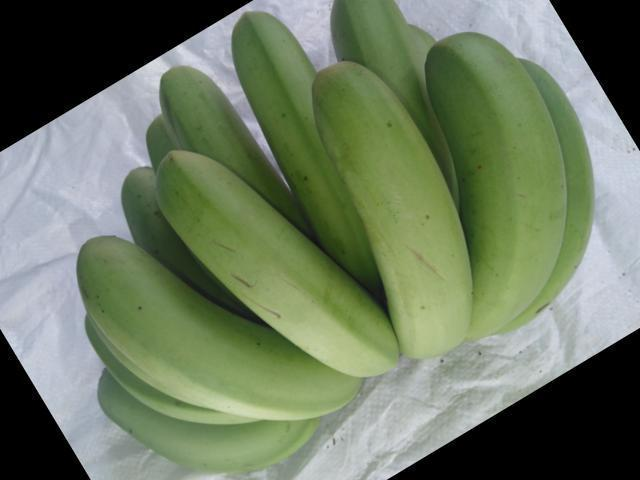freshunripe: (294, 54, 481, 373), (139, 153, 406, 376), (66, 239, 361, 418), (422, 19, 559, 350), (222, 5, 356, 186), (79, 379, 324, 474), (150, 54, 280, 173)
